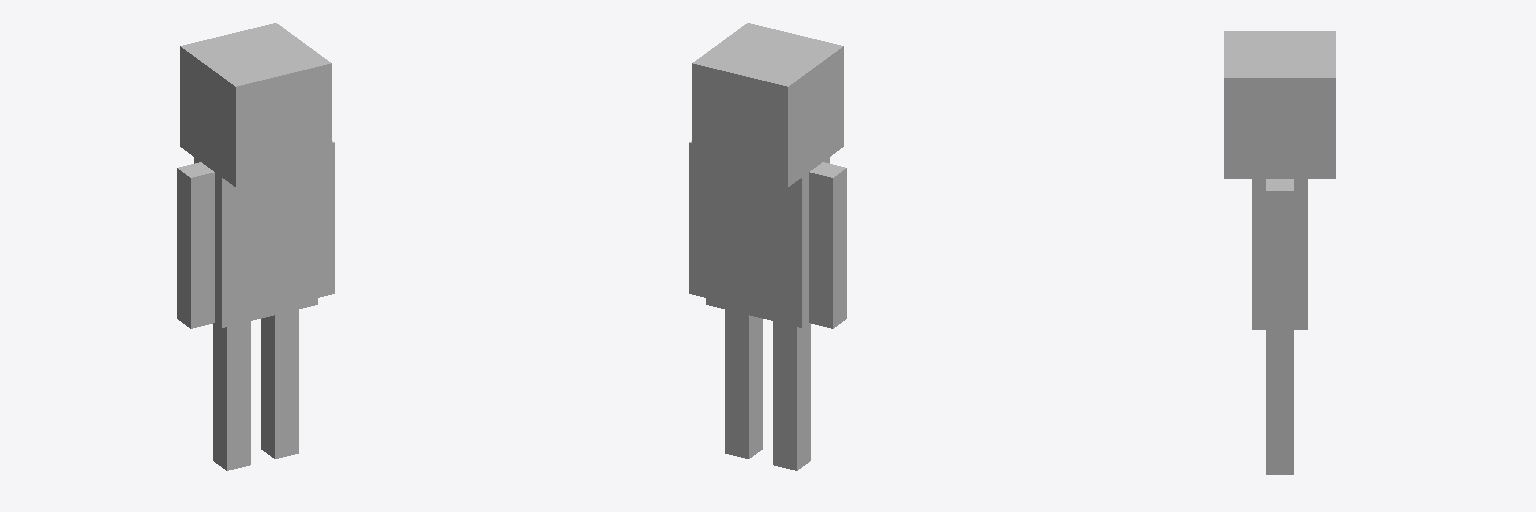
File: skeleton.geo.obj
The picture shows the model from 3 angles: view 1: azimuth 30°, elevation 25°; view 2: azimuth 150°, elevation 25°; view 3: azimuth 270°, elevation 25°; orthographic projection.
Parts seen in each view (by area): view 1: head, body, rightArm, rightLeg, leftLeg, leftArm; view 2: head, body, rightArm, rightLeg, leftLeg, leftArm; view 3: head, leftArm, body, leftLeg.
Part boxes in pixels (x1,y1,x2,y2): head: (180, 23, 331, 186); body: (194, 157, 317, 327); rightArm: (177, 162, 214, 328); rightLeg: (213, 321, 250, 470); leftLeg: (261, 309, 298, 458); leftArm: (318, 141, 334, 297); head: (692, 23, 843, 186); body: (706, 157, 829, 327); rightArm: (809, 162, 846, 328); rightLeg: (773, 321, 810, 470); leftLeg: (725, 309, 762, 458); leftArm: (689, 141, 705, 297); head: (1224, 31, 1335, 178); leftArm: (1266, 179, 1293, 341); body: (1252, 179, 1307, 329); leftLeg: (1266, 342, 1293, 474).
Bounding box in the file's own units: 0.75 × 2 × 0.5.